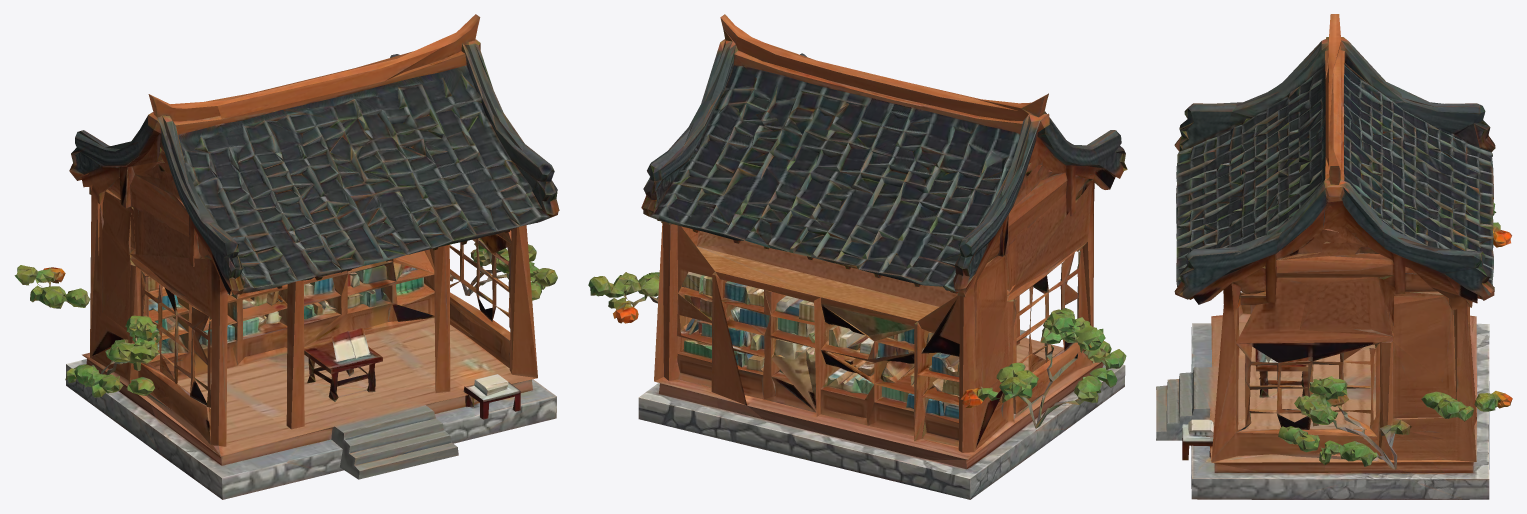
Rendered from library.glb.
3 renders of one model, left to right at view 1: azimuth 30°, elevation 25°; view 2: azimuth 150°, elevation 25°; view 3: azimuth 270°, elevation 25°, orthographic. The views are drawn at different scales.
Bounding box in the file's own units: 1.89 × 1.36 × 1.33.
Materials: 1 (1 with a texture image).
